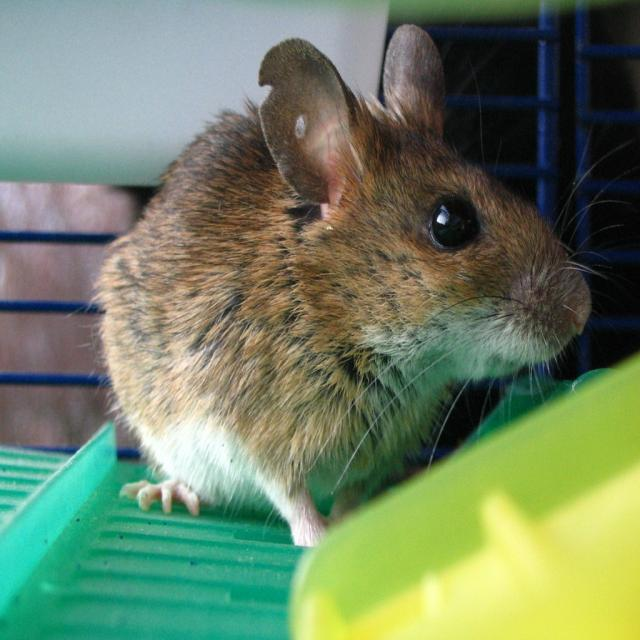rat: (93, 22, 597, 547)
